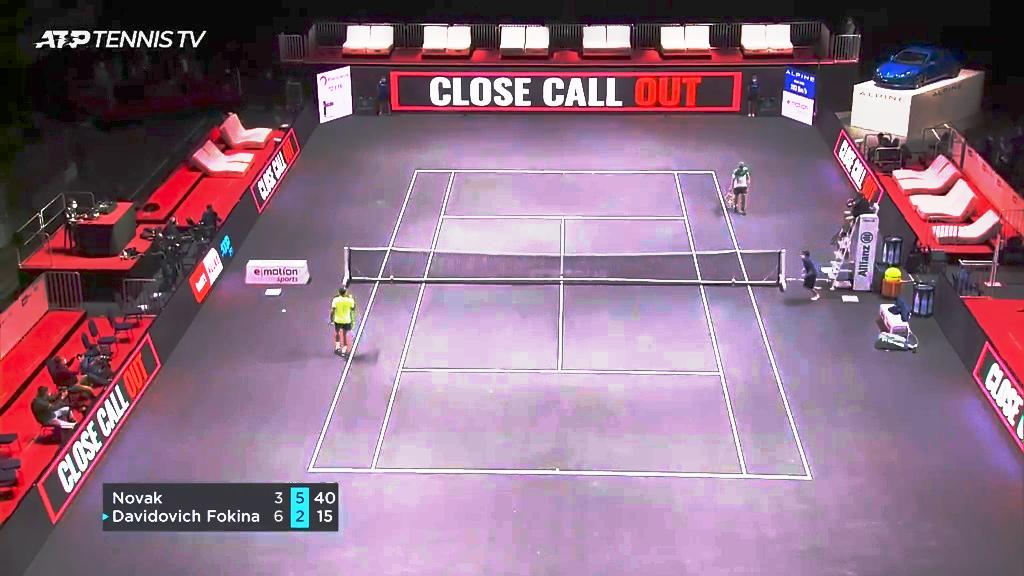tennis-court: (308, 169, 813, 479)
